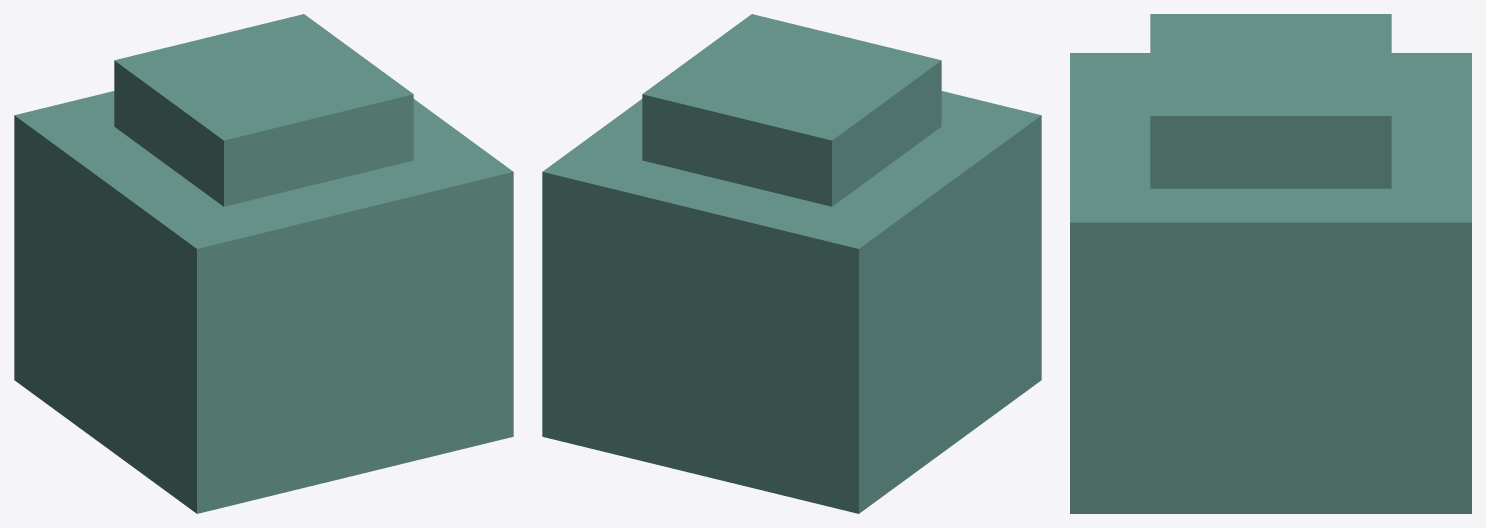
The model's file is Item_DS_Food_KelpWrap_V0.glb.
The picture shows the model from 3 angles, left to right: view 1: azimuth 30°, elevation 25°; view 2: azimuth 150°, elevation 25°; view 3: azimuth 270°, elevation 25°; orthographic projection. The views are drawn at different scales.
Visible parts, largest first — view 1: Item_DS_Food_KelpWrap_V0; view 2: Item_DS_Food_KelpWrap_V0; view 3: Item_DS_Food_KelpWrap_V0.
Boxes of the visible parts, left/top/right/bottom form: Item_DS_Food_KelpWrap_V0: left=14, top=14, right=513, bottom=513; Item_DS_Food_KelpWrap_V0: left=542, top=14, right=1041, bottom=513; Item_DS_Food_KelpWrap_V0: left=1070, top=14, right=1471, bottom=513.
Bounding box in the file's own units: 0.18 × 0.18 × 0.18.
